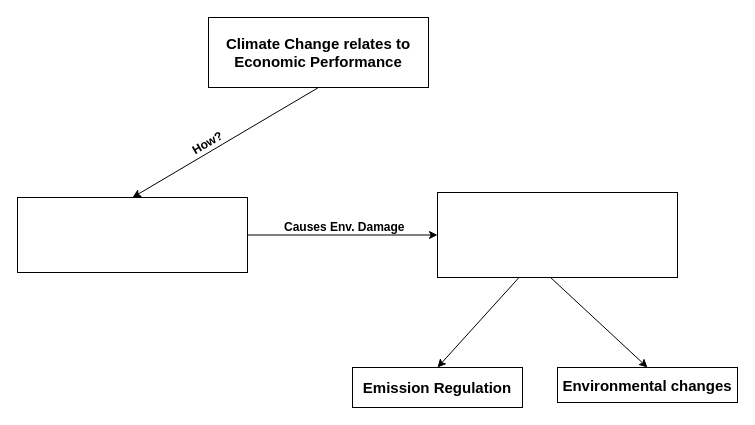
This 755x425 diagram has some shape labels left out. Each missing label, with the box of its shape:
Environmental Damage relates to Economic Performance: (436, 192, 678, 278)
Pollutant Industries contribute to the Economy: (16, 196, 248, 272)
